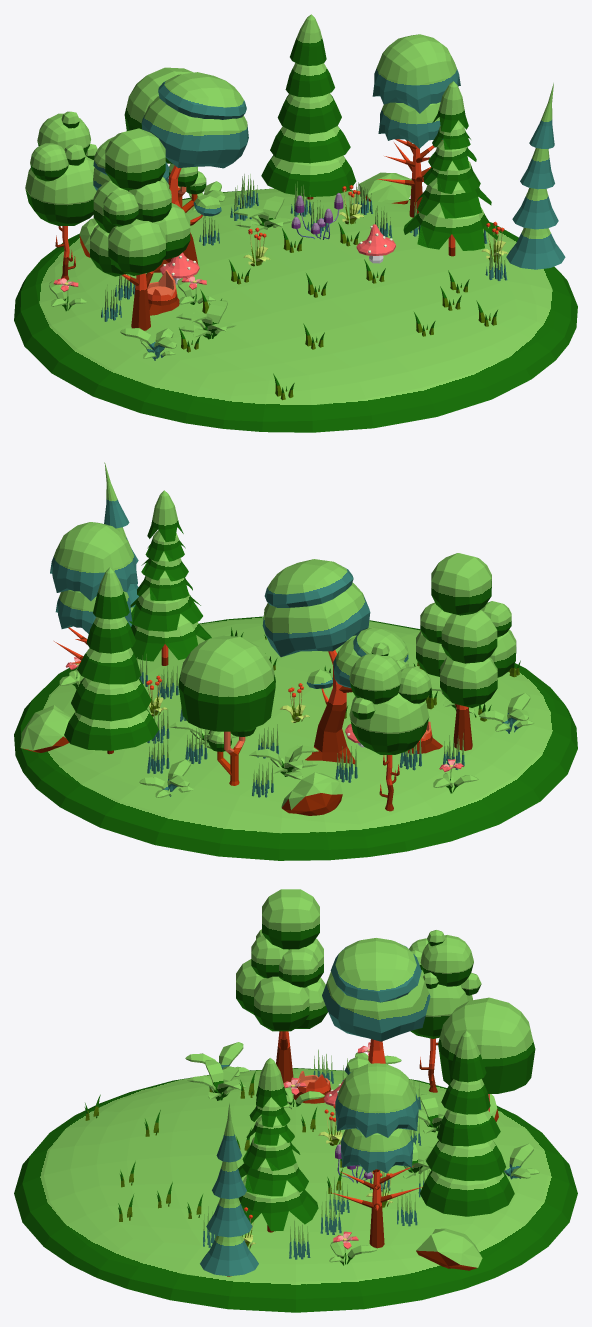
The model's file is diorama.glb.
3 views of the same model, one above another, from view 1: azimuth 30°, elevation 25°; view 2: azimuth 150°, elevation 25°; view 3: azimuth 270°, elevation 25° (orthographic).
Visible parts, largest first — view 1: Tree.078, Tree.082, Tree.083, Tree.035, Tree.086, Tree.085, Tree.081, Tree.087, Tree.084, Tree.101, Tree.108, Tree.107 (+7 smaller); view 2: Tree.078, Tree.083, Tree.082, Tree.035, Tree.084, Tree.085, Tree.081, Tree.086, Tree.102, Tree.101, Tree.109, Tree.087 (+3 smaller); view 3: Tree.078, Tree.082, Tree.035, Tree.083, Tree.086, Tree.085, Tree.084, Tree.081, Tree.087, Tree.101, Tree.108, Tree.097 (+6 smaller).
Boxes of the visible parts, box(x1,y1,x2,y2) form: Tree.078: box(14, 188, 577, 432); Tree.082: box(90, 128, 190, 330); Tree.083: box(93, 72, 248, 272); Tree.035: box(261, 14, 356, 199); Tree.086: box(372, 34, 460, 217); Tree.085: box(403, 81, 498, 256); Tree.081: box(25, 111, 97, 280); Tree.087: box(506, 83, 565, 269); Tree.084: box(124, 67, 206, 212); Tree.101: box(359, 172, 411, 204); Tree.108: box(176, 300, 236, 339); Tree.107: box(233, 196, 292, 232); Tree.078: box(14, 616, 577, 860); Tree.083: box(262, 559, 408, 764); Tree.082: box(416, 553, 516, 750); Tree.035: box(64, 567, 158, 754); Tree.084: box(178, 635, 275, 785); Tree.085: box(129, 490, 211, 665); Tree.081: box(349, 642, 431, 811); Tree.086: box(50, 522, 137, 663); Tree.102: box(281, 772, 342, 815); Tree.101: box(20, 705, 71, 752); Tree.109: box(249, 745, 318, 779); Tree.087: box(104, 462, 138, 626); Tree.078: box(14, 1068, 577, 1312); Tree.082: box(236, 889, 327, 1083); Tree.035: box(420, 1031, 514, 1216); Tree.083: box(322, 938, 430, 1074); Tree.086: box(331, 1063, 422, 1248); Tree.085: box(238, 1058, 318, 1232); Tree.084: box(438, 997, 535, 1111); Tree.081: box(409, 930, 481, 1092); Tree.087: box(200, 1103, 258, 1276); Tree.101: box(416, 1228, 482, 1270); Tree.108: box(187, 1059, 245, 1100); Tree.097: box(329, 1231, 376, 1265).
Size of the model in its own units: 31.77 by 13.73 by 31.77.
1 material, 1 textured.
